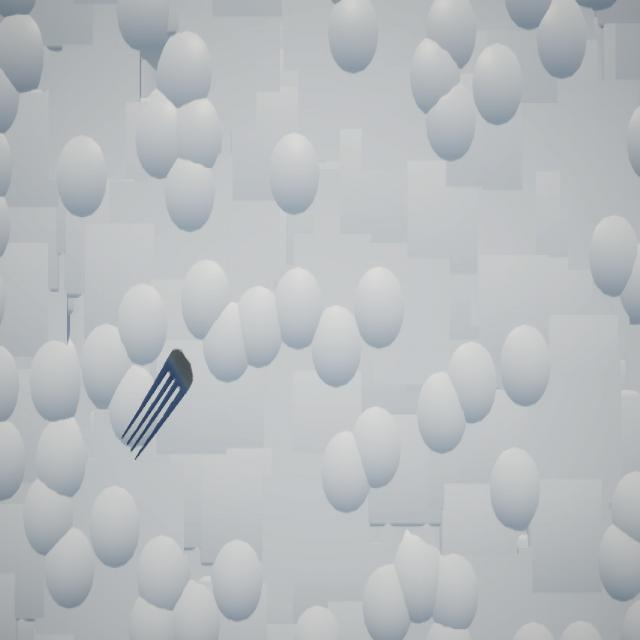top_folk: (123, 349, 195, 461)
